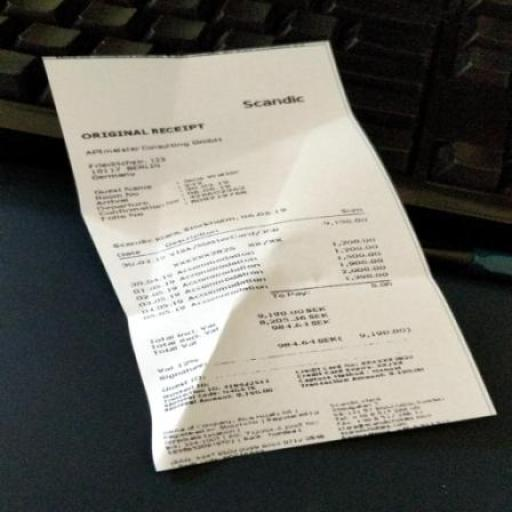paper: (0, 26, 494, 512)
